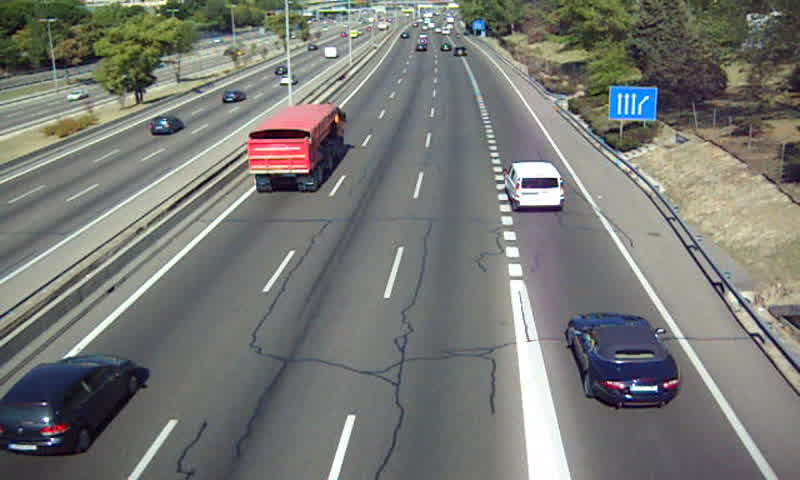car: (1, 355, 137, 456), (567, 314, 681, 405)
truck: (247, 104, 346, 192)
van: (505, 161, 565, 210)
